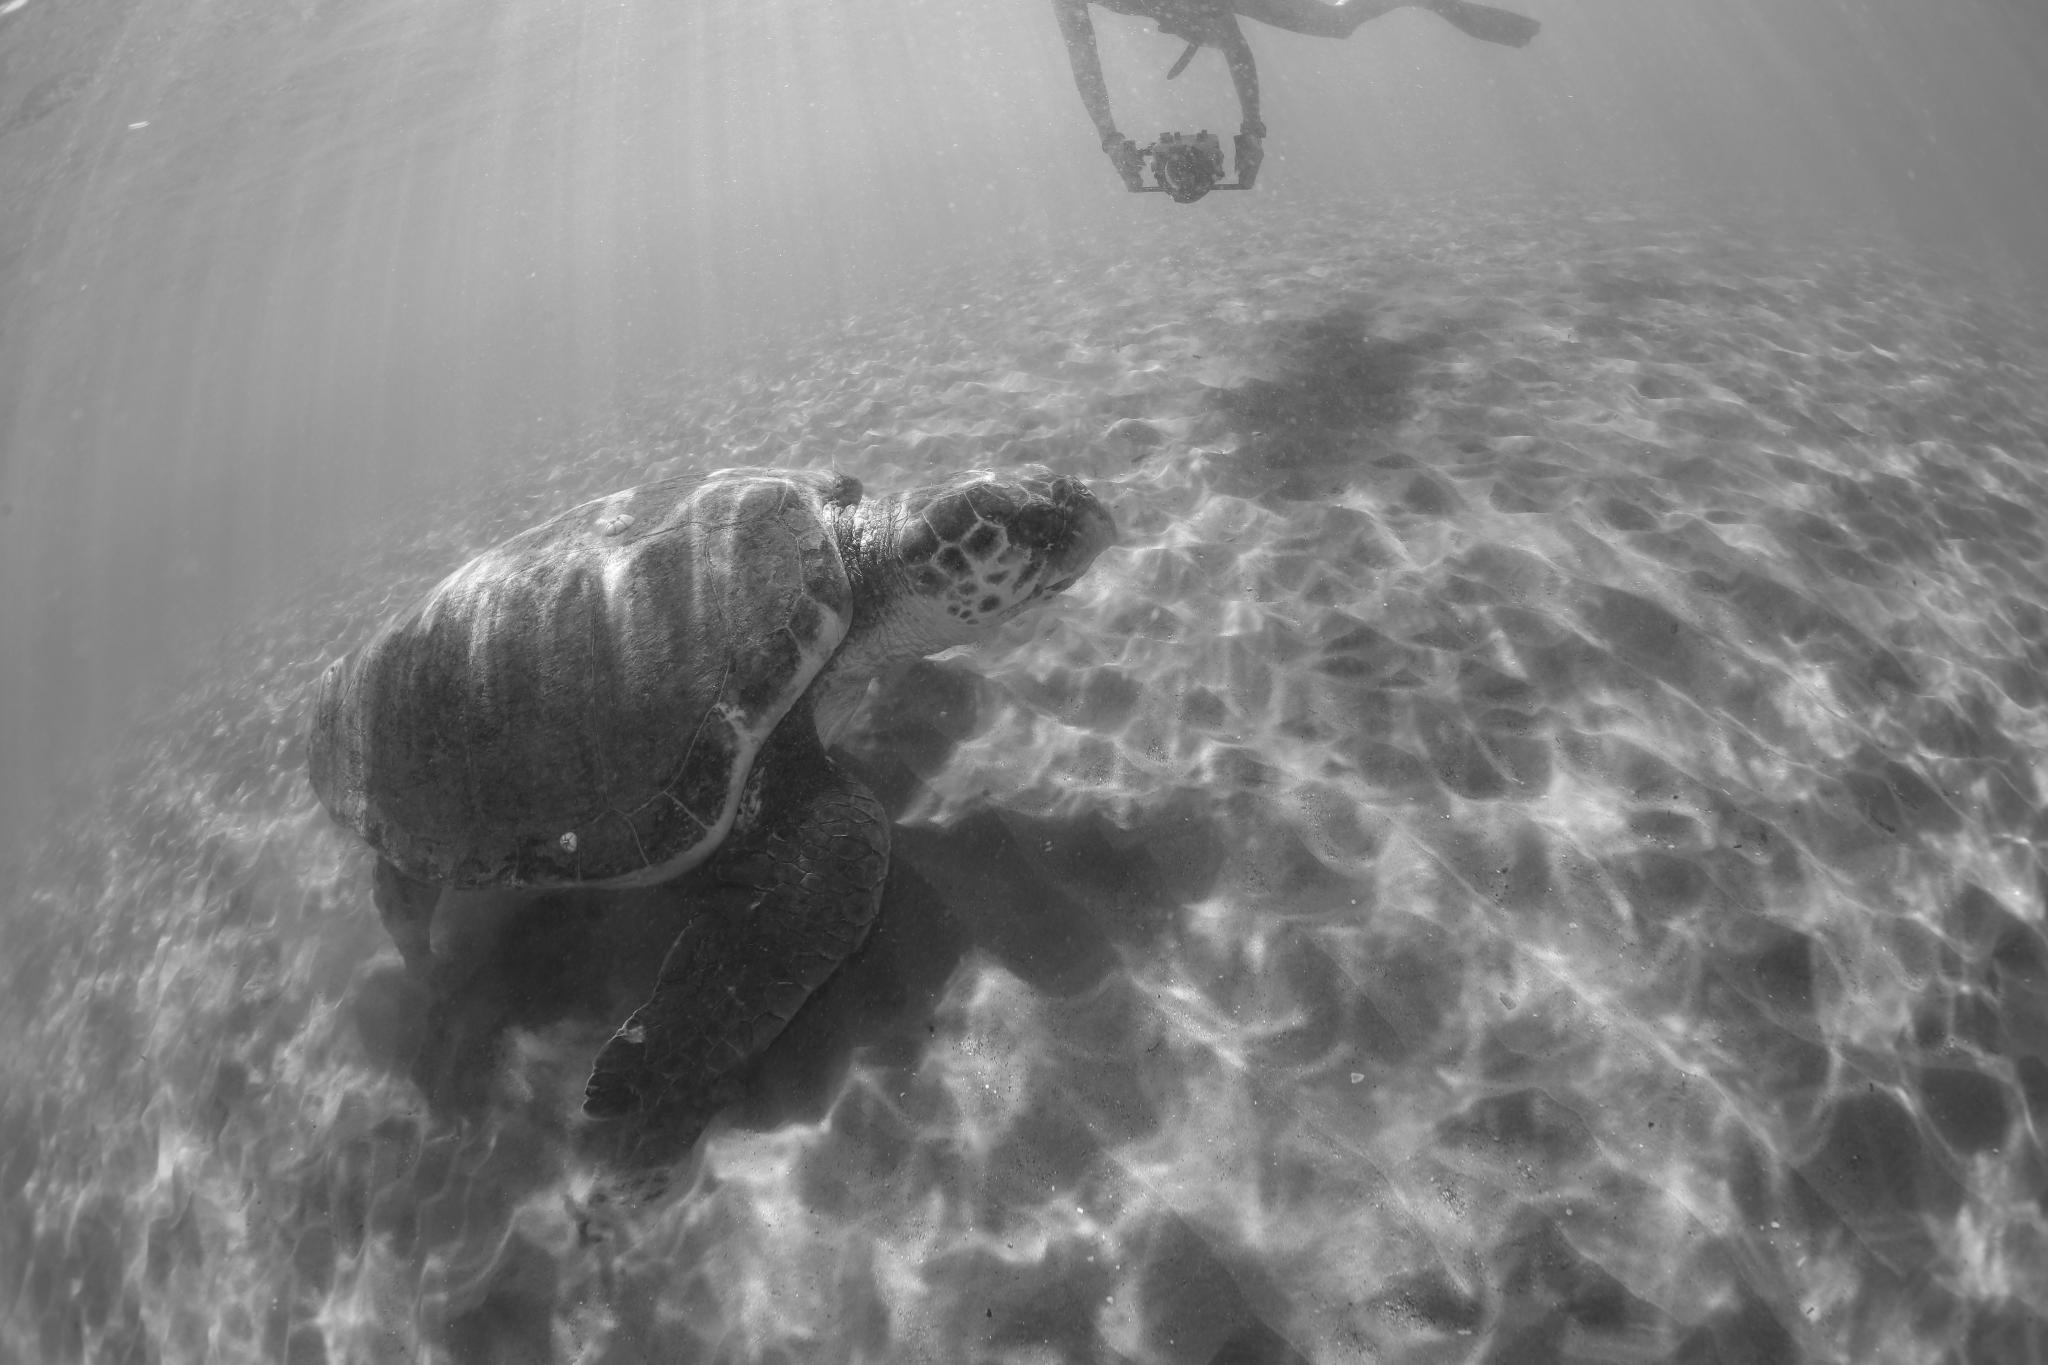Head: (852, 465, 1116, 652)
